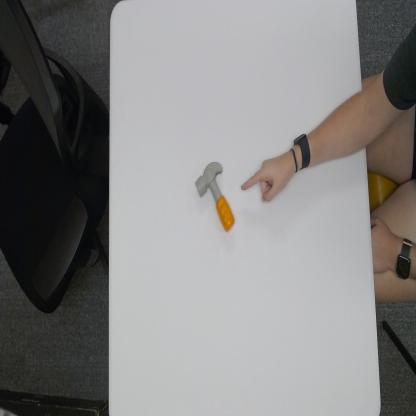Arm: (312, 90, 366, 160)
Hammer: (195, 159, 236, 233)
Hand: (241, 151, 295, 206)
